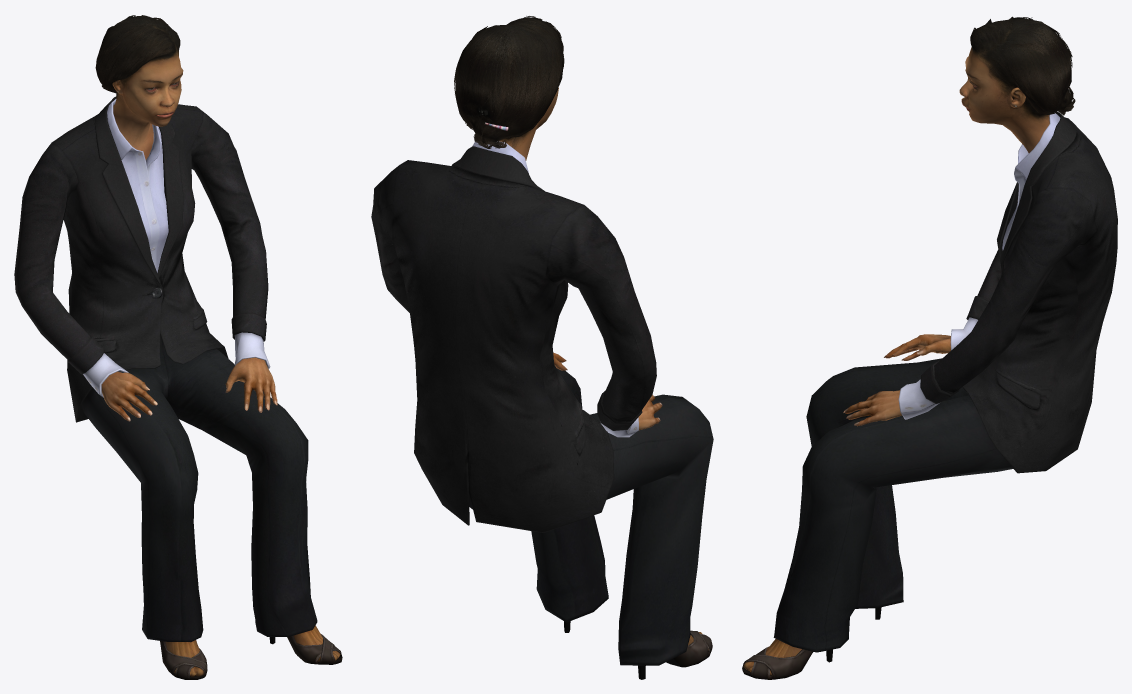
Rendered from guest-woman.glb.
3 renders of one model, left to right at view 1: azimuth 30°, elevation 25°; view 2: azimuth 150°, elevation 25°; view 3: azimuth 270°, elevation 25°, orthographic. The views are drawn at different scales.
Parts seen in each view (by area): view 1: f014_hipoly_81_bones_opacity; view 2: f014_hipoly_81_bones_opacity; view 3: f014_hipoly_81_bones_opacity.
Part boxes in pixels (box(x1,y1,x2,y2)): f014_hipoly_81_bones_opacity: box(14, 15, 342, 679); f014_hipoly_81_bones_opacity: box(371, 16, 713, 679); f014_hipoly_81_bones_opacity: box(742, 16, 1117, 679).
Bounding box in the file's own units: 62.53 × 148 × 81.37.
Materials: 3 (3 with a texture image).
